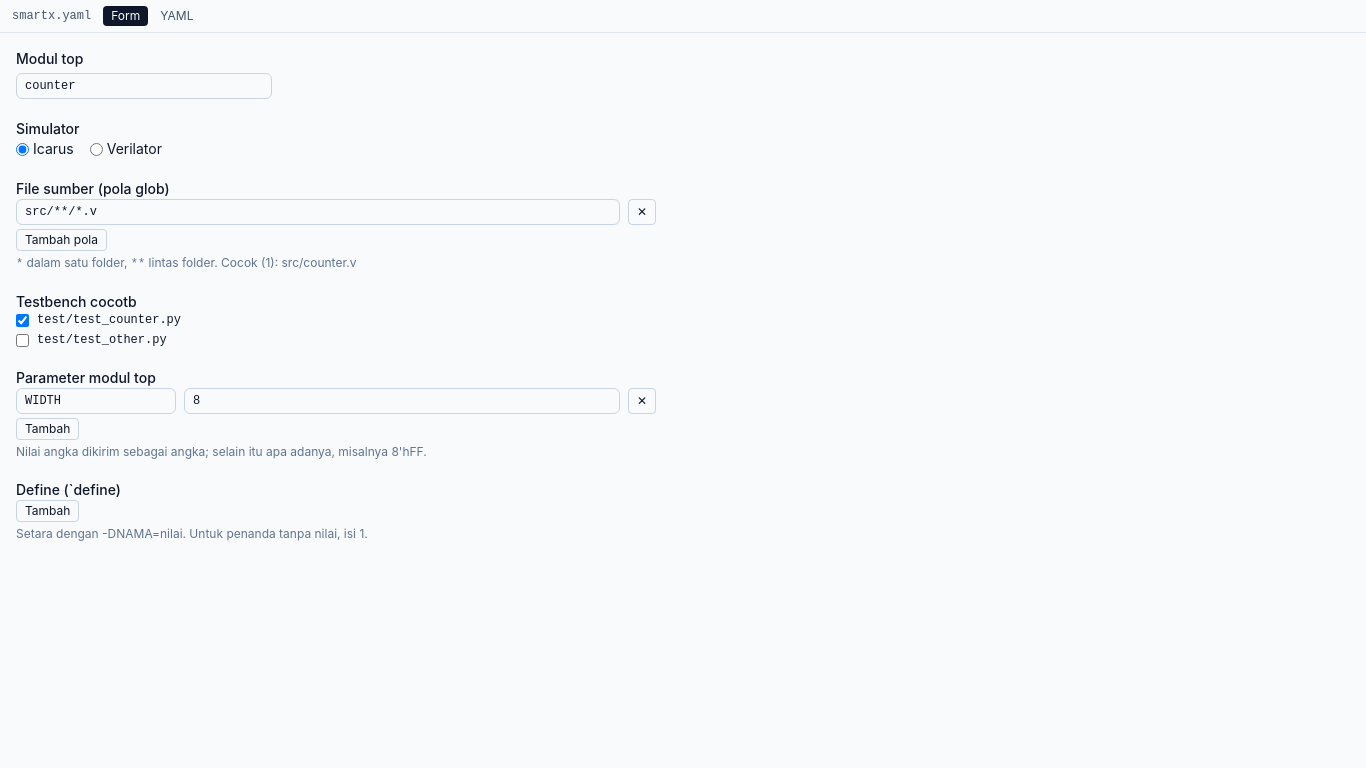
ConfigEditor › shows why the form could not be saved
Step 1. Replace the text in the field labelled "Modul top" with "9x" → coordinates (144, 86), box [16,73,272,99]
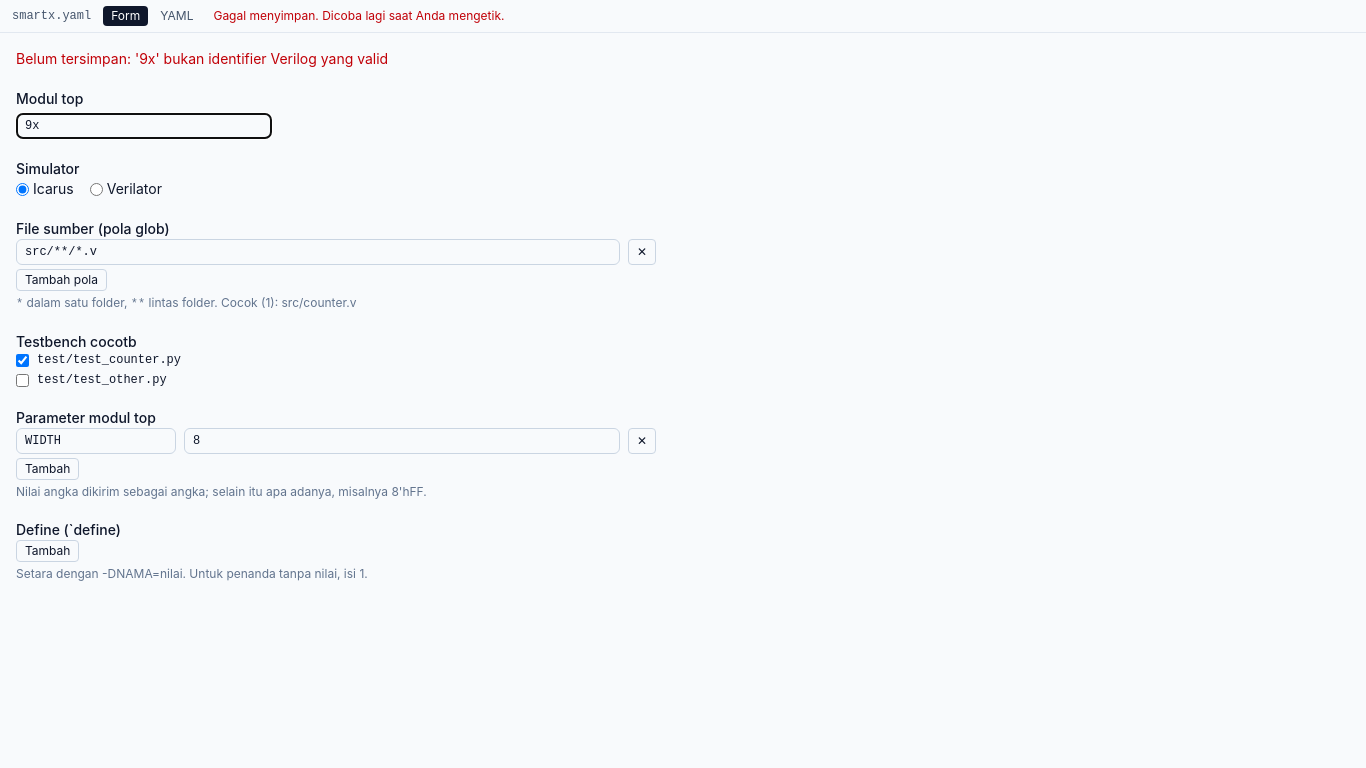
Now the text "Belum tersimpan: '9x' bukan identifier Verilog yang valid" is shown, box [16,50,388,67]
